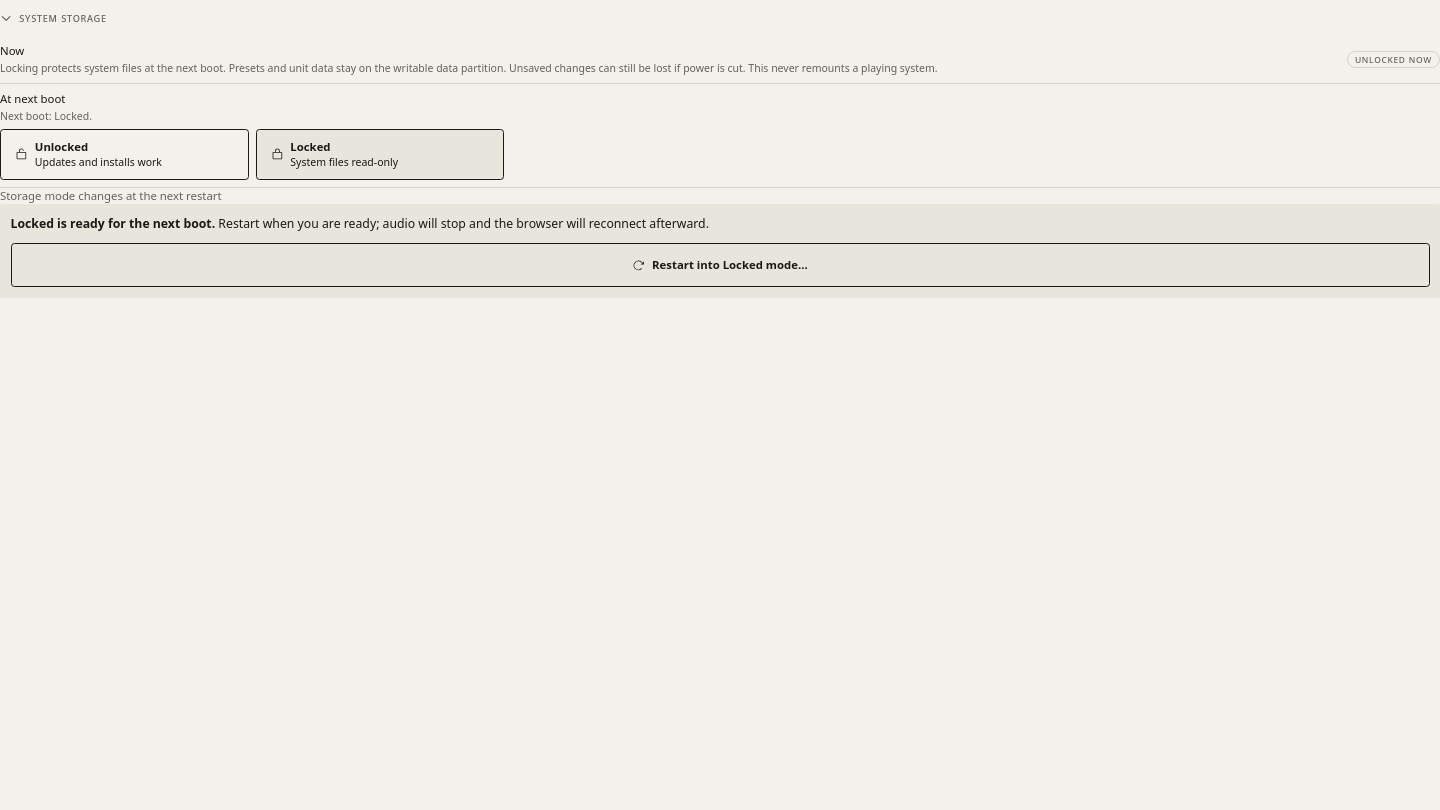
Test: requires confirmation before rebooting into the scheduled mode
Click the button "Restart into Locked mode…". click: (720, 265)
box: 10,243 -> 1430,287
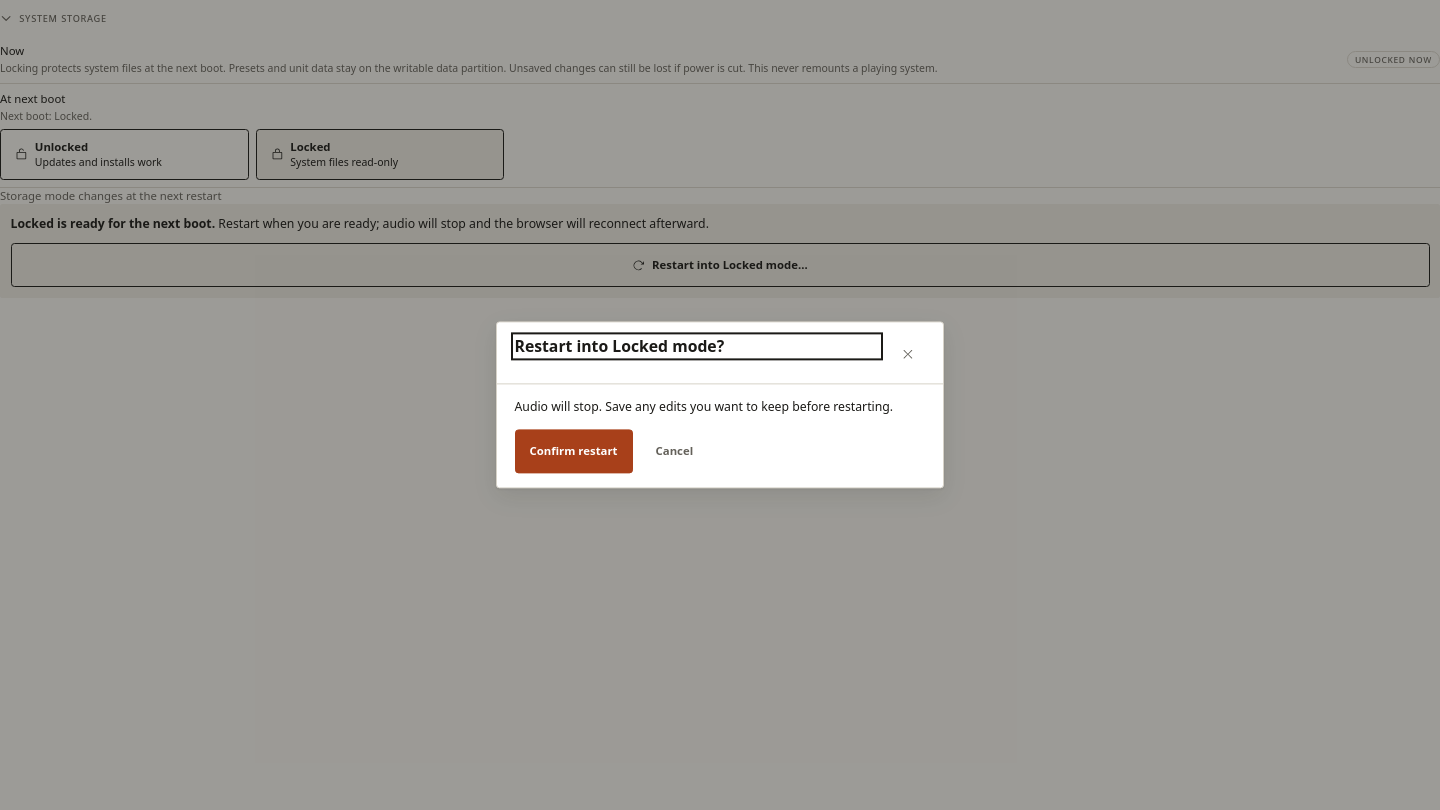
Expected: the dialog "Restart into Locked mode?" is shown, 496,321 -> 944,489
Click the button "Confirm restart". click: (574, 452)
box: 514,430 -> 632,474
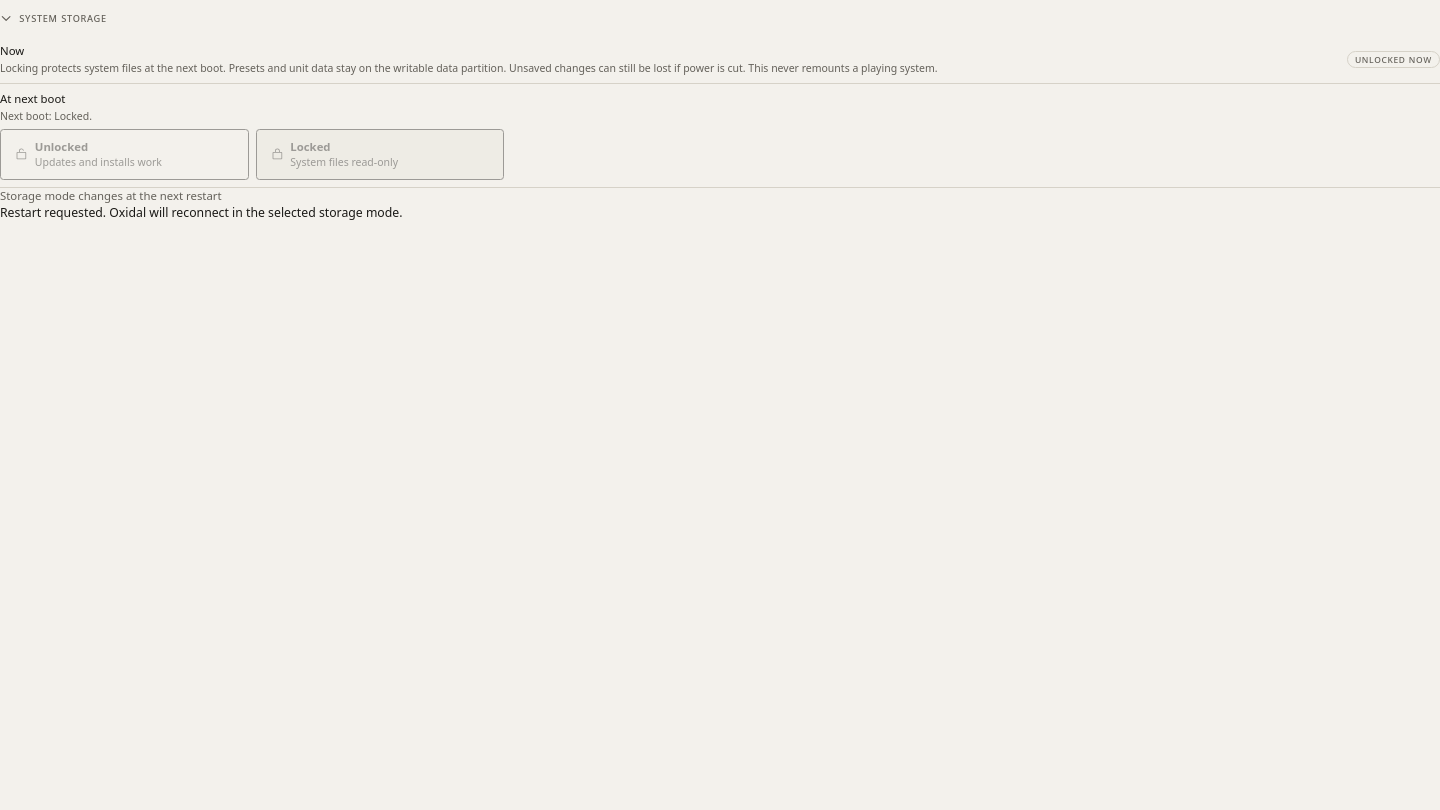
Expected: the text "Restart requested. Oxidal will reconnect in the selected storage mode." is shown, 0,204 -> 402,221
